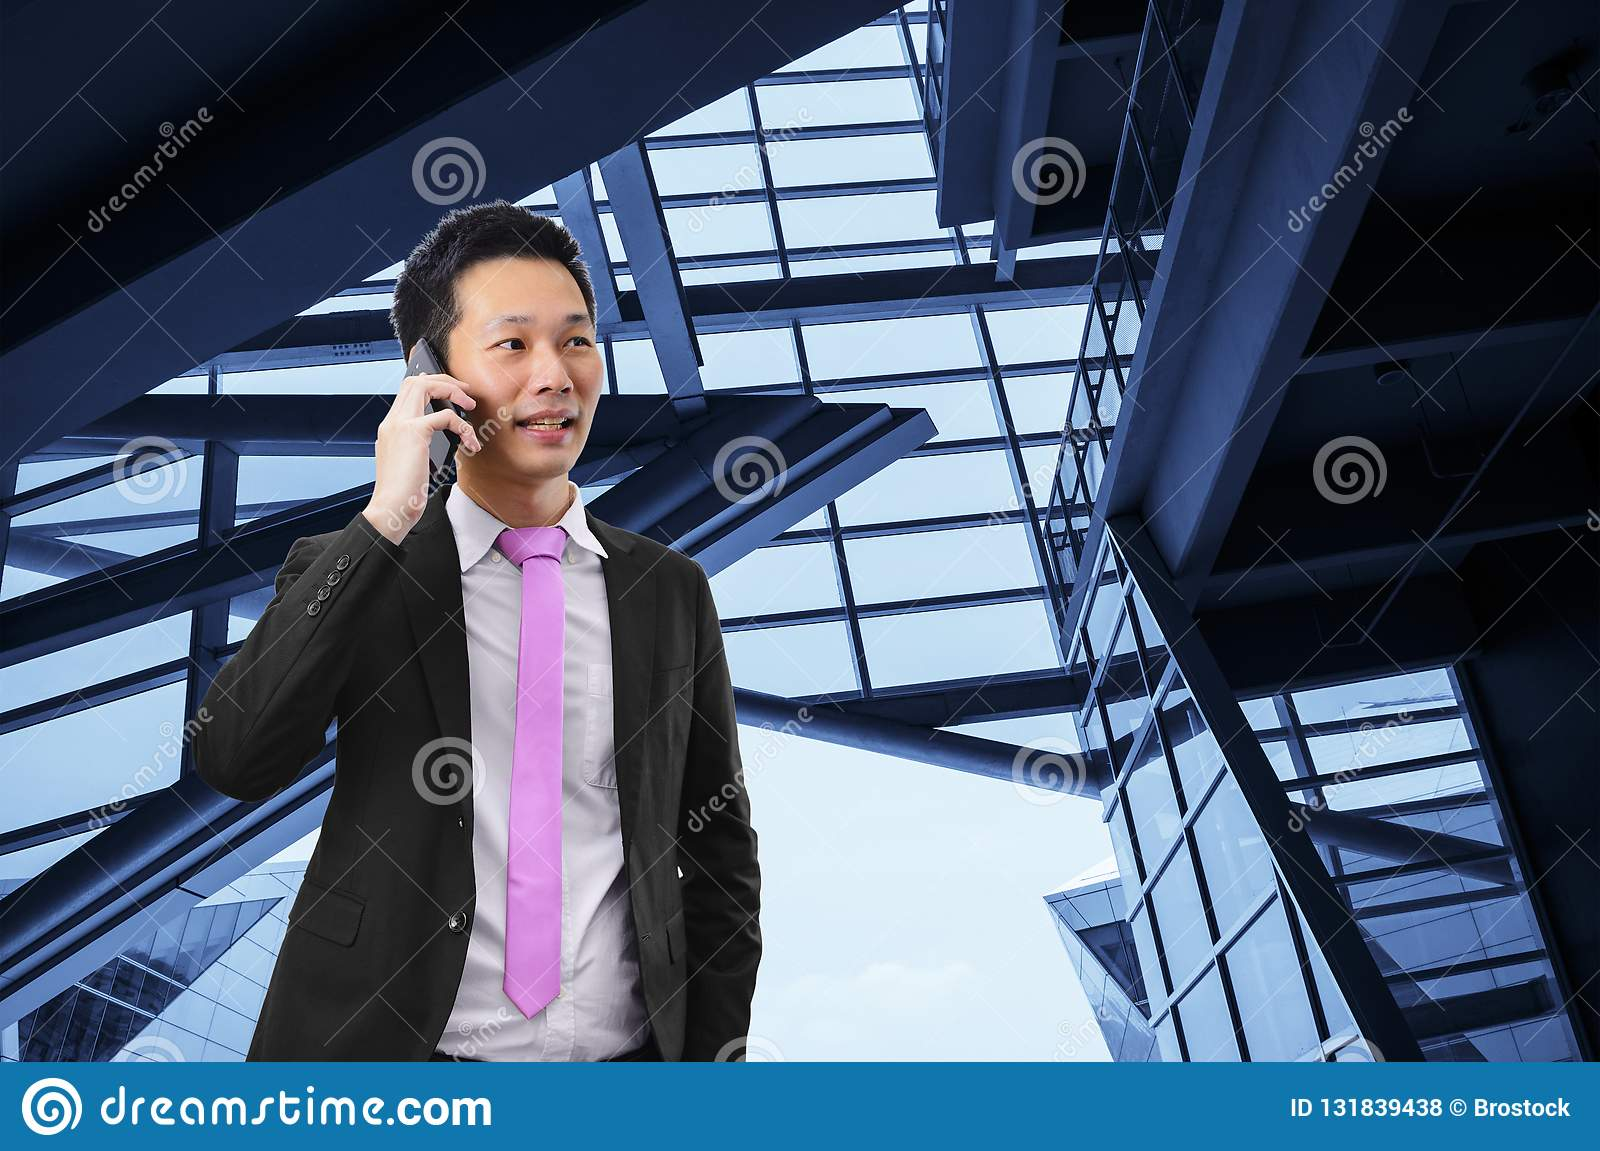phone: (398, 336, 470, 484)
talk: (371, 298, 609, 534)
